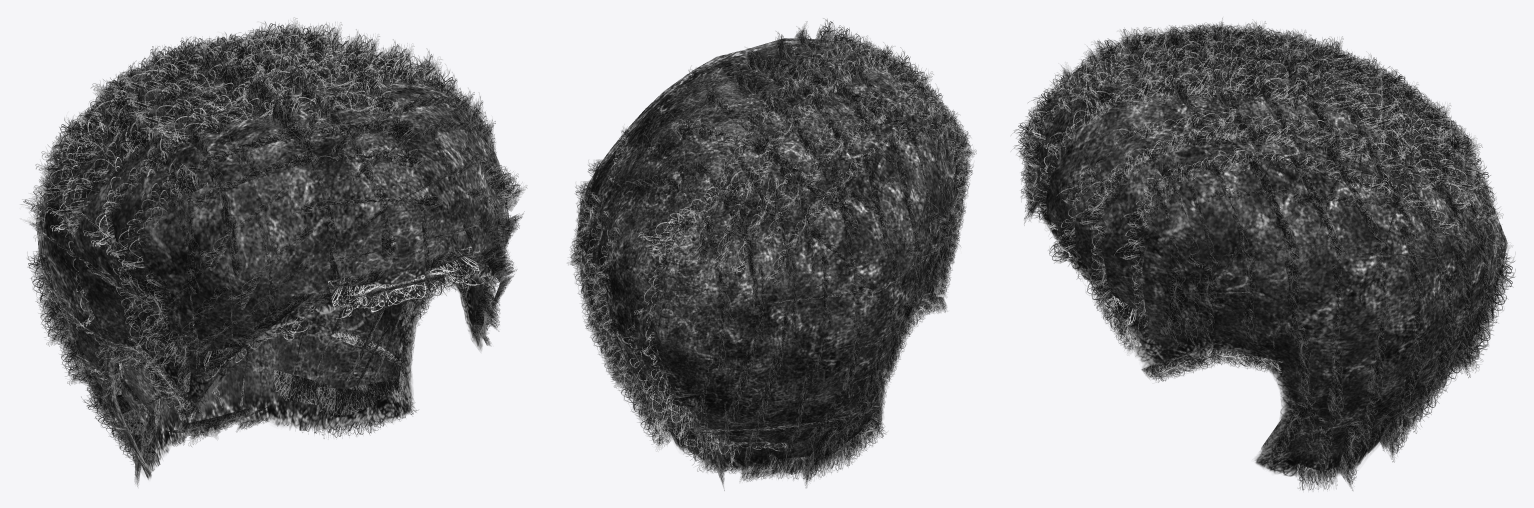
File: hair_afro01.gltf
The picture shows the model from 3 angles, left to right: view 1: azimuth 30°, elevation 25°; view 2: azimuth 150°, elevation 25°; view 3: azimuth 270°, elevation 25°; orthographic projection. The views are drawn at different scales.
Parts seen in each view (by area): view 1: hair_afro01; view 2: hair_afro01; view 3: hair_afro01.
Part boxes in pixels (box(x1,y1,x2,y2)): hair_afro01: box(19, 17, 527, 486); hair_afro01: box(567, 18, 976, 490); hair_afro01: box(1010, 18, 1515, 490).
Size of the model in its own units: 0.1955 by 0.2078 by 0.2316.
1 material, 1 textured.
